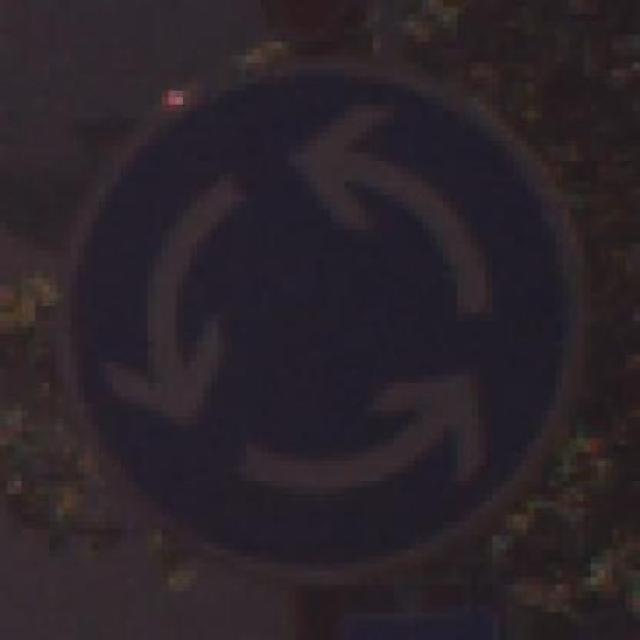Round-About: (35, 56, 619, 598)
